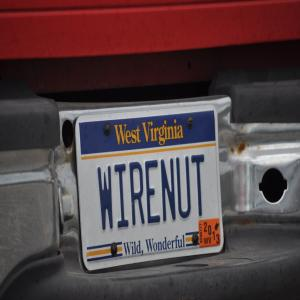Vehicle-registration-plate: (71, 100, 233, 271)
